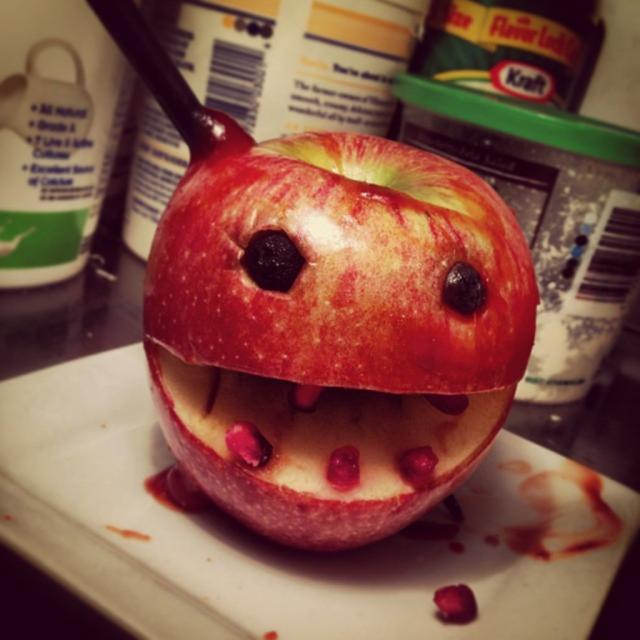Healty Apple: (129, 108, 533, 516)
